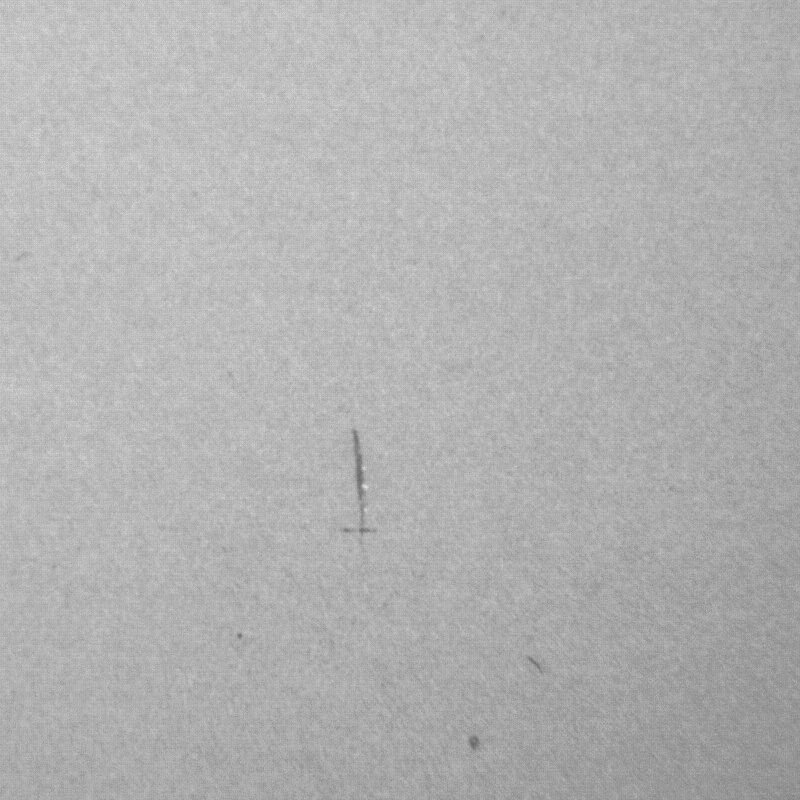defect: (340, 426, 367, 542), (463, 734, 486, 754), (526, 652, 545, 673), (234, 628, 251, 646), (14, 250, 32, 266)
